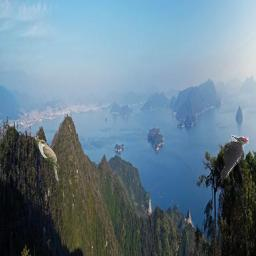Cuckoo: (35, 138, 60, 185)
Woodpecker: (218, 135, 249, 179)
